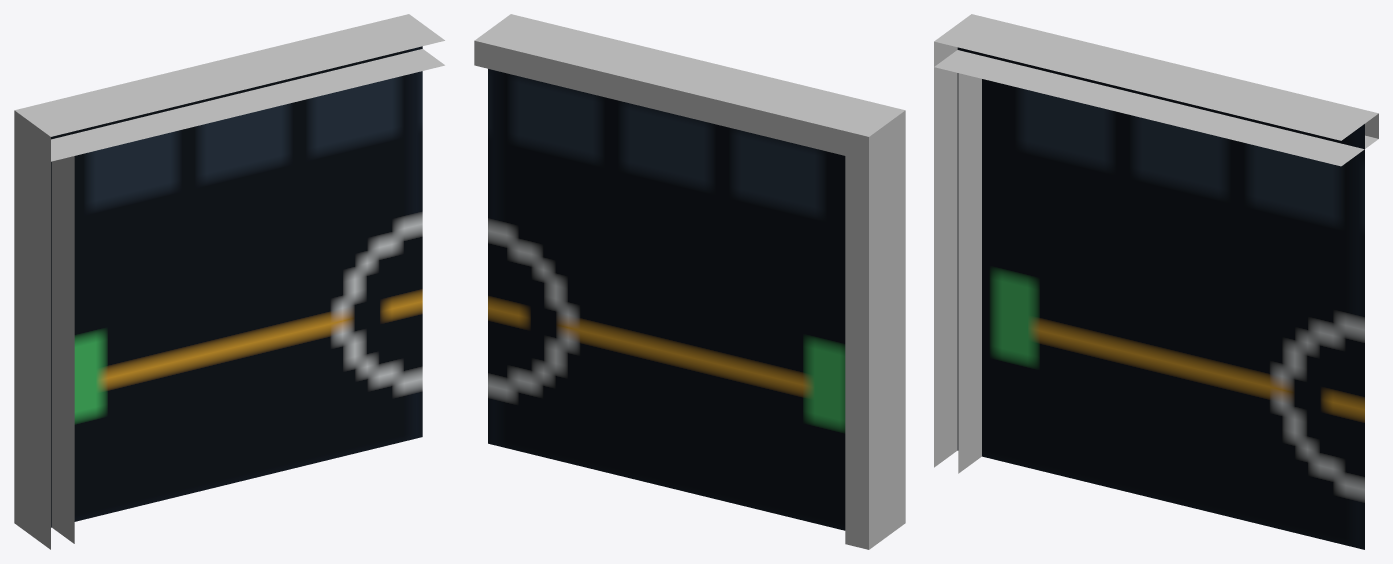
The model's file is wall_display_3x2_01.obj.
3 views of the same model, side by side, from view 1: azimuth 30°, elevation 25°; view 2: azimuth 150°, elevation 25°; view 3: azimuth 330°, elevation 25° (orthographic). The views are drawn at different scales.
Parts seen in each view (by area): view 1: wall_display_3x2_01; view 2: wall_display_3x2_01; view 3: wall_display_3x2_01.
Boxes of the visible parts, x1,y1,x2,y2 form: wall_display_3x2_01: (14,14,444,549); wall_display_3x2_01: (474,14,905,549); wall_display_3x2_01: (934,14,1378,549).
Bounding box in the file's own units: 1 × 1 × 0.16.
